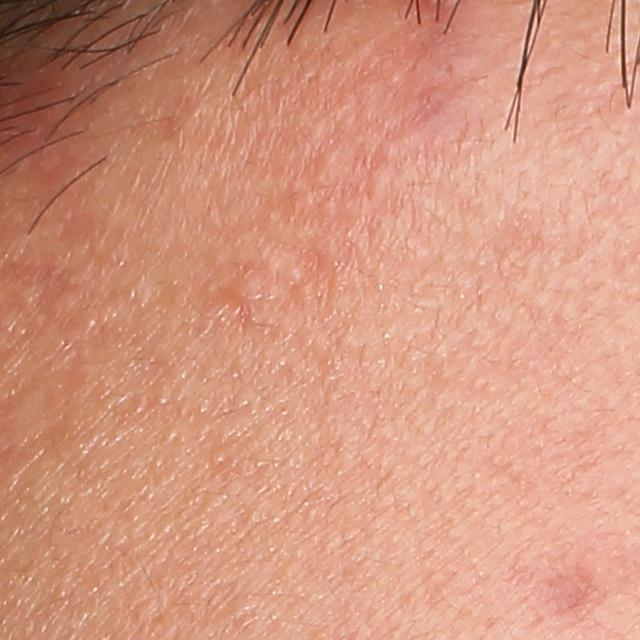comedo: (364, 167, 390, 200)
